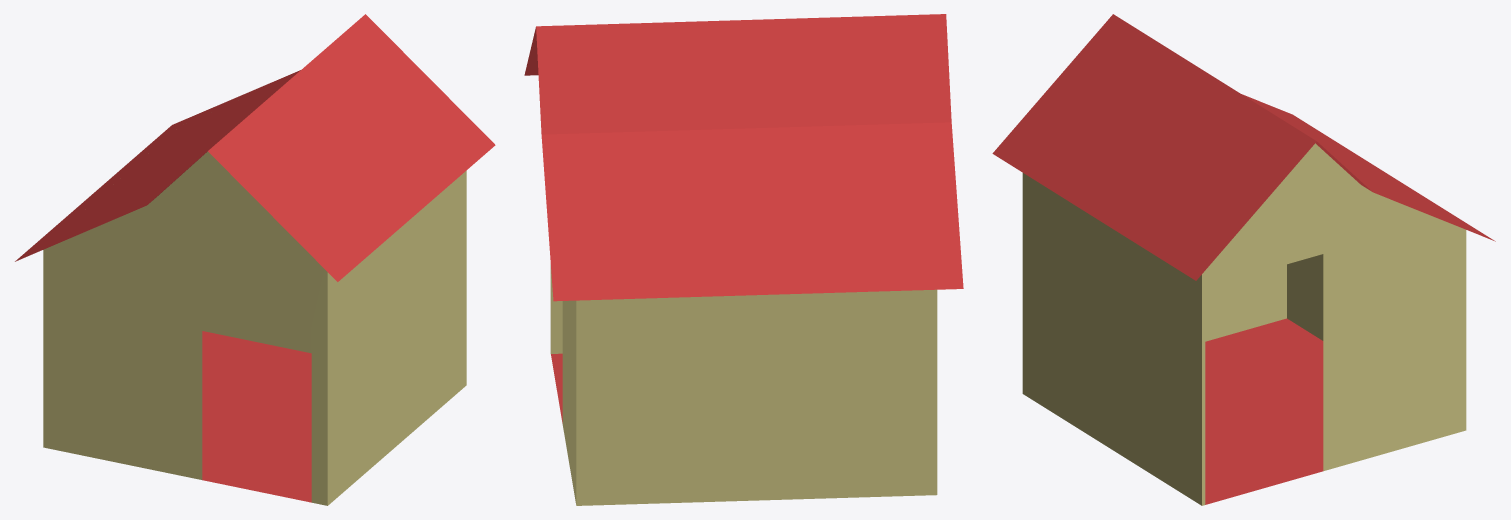
3 views of the same model, side by side, from view 1: azimuth 30°, elevation 25°; view 2: azimuth 150°, elevation 25°; view 3: azimuth 270°, elevation 25° (orthographic). The views are drawn at different scales.
Bounding box in the file's own units: 17.31 × 17.3 × 12.99.
